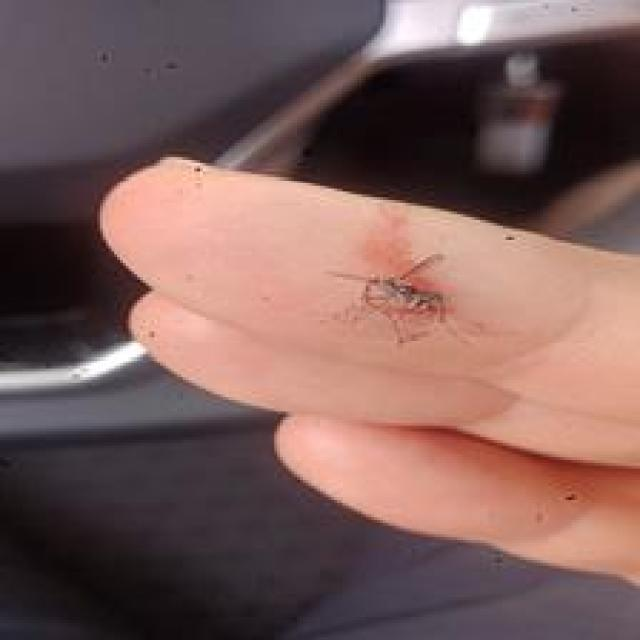Aedes albopictus: (330, 251, 459, 346)
